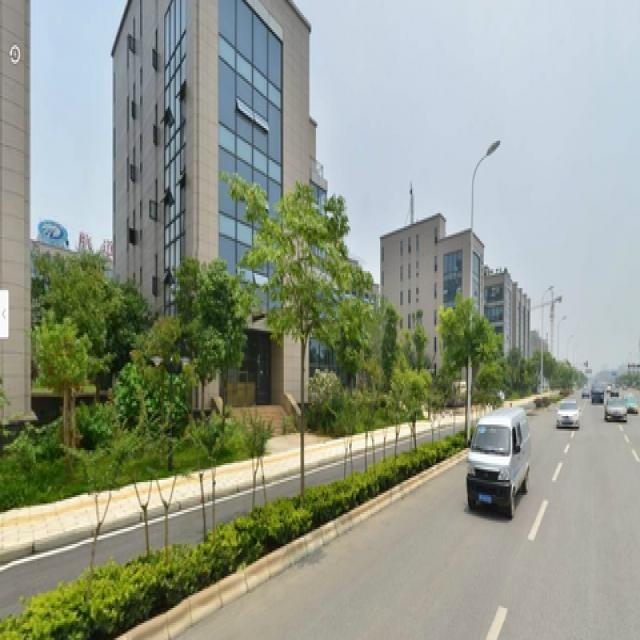sali: (248, 179, 345, 495)
